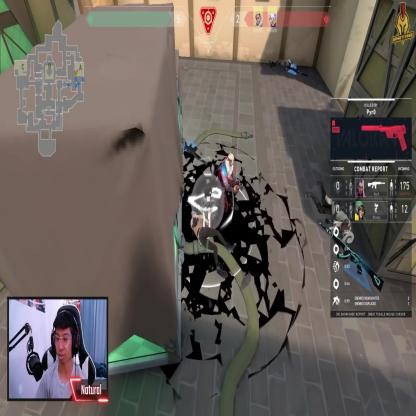enemy: (218, 149, 240, 216)
enemy_head: (227, 152, 234, 168)
